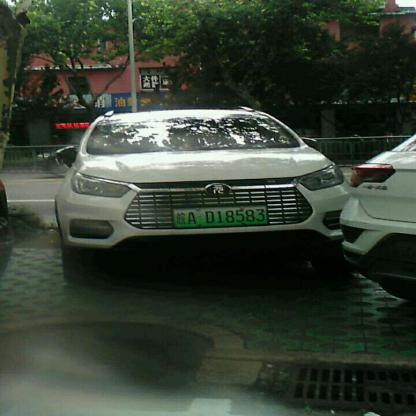lp: (173, 206, 267, 226)
